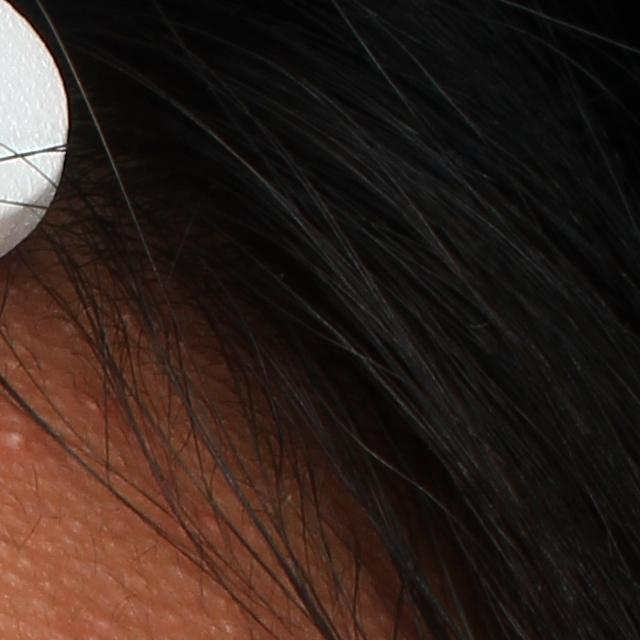comedo: (2, 430, 34, 446)
